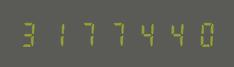four: (129, 20, 156, 47), (157, 20, 184, 47)
one: (45, 20, 72, 47)
seven: (73, 20, 100, 47), (101, 20, 128, 47)
three: (17, 20, 44, 47)
zero: (185, 20, 212, 47)
